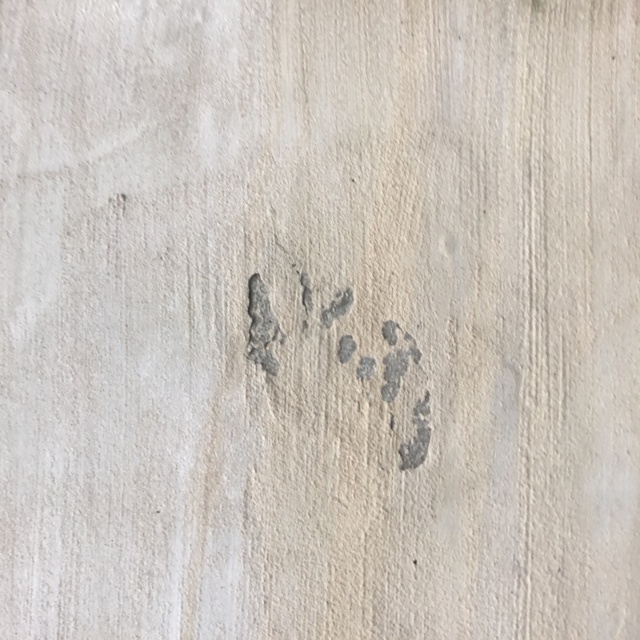spall: (227, 261, 446, 486)
